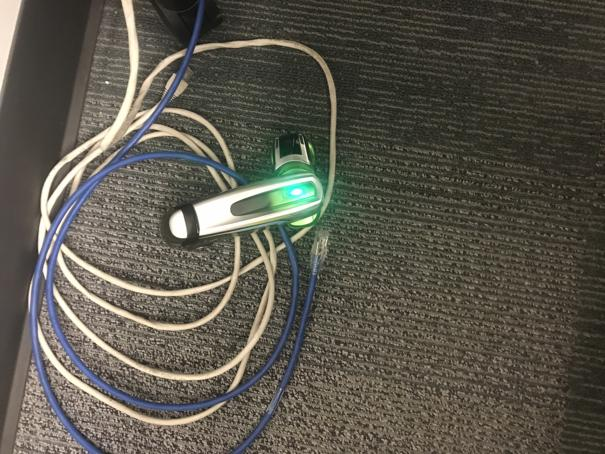Freewheel: (161, 133, 326, 249)
